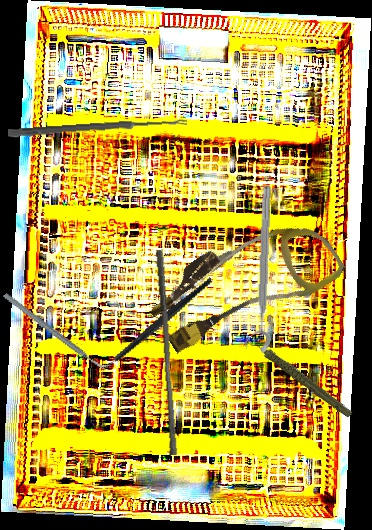Cannula: (139, 193, 349, 374)
Chopper: (79, 276, 232, 384), (1, 266, 112, 396)
Fixation Ring: (243, 185, 276, 354)
Handpiece: (248, 316, 355, 436)
Pusher: (147, 249, 185, 456)
Surgical Spoon: (7, 116, 188, 139)
